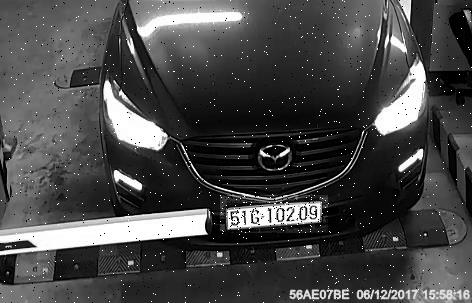License-plate: (222, 196, 331, 234)
